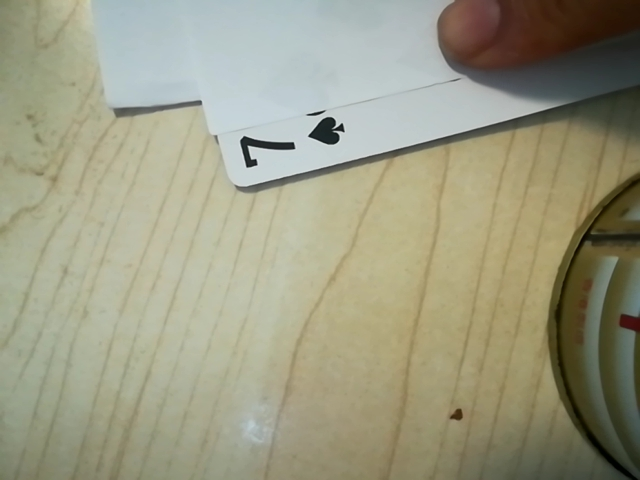ht 7: (226, 106, 361, 183)
